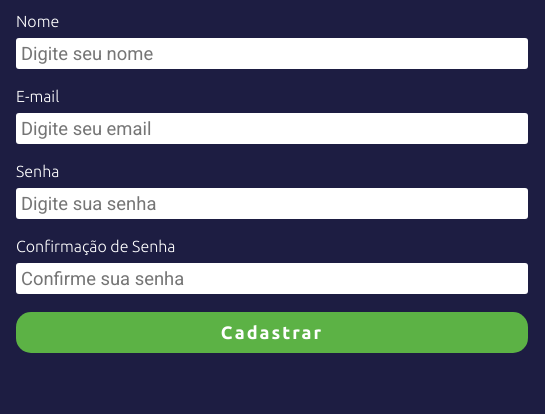
Testing Register Form › Should name be invalid
Type "####" into the field with placeholder "Digite seu nome". click: (272, 54)
box: [16,38,528,69]
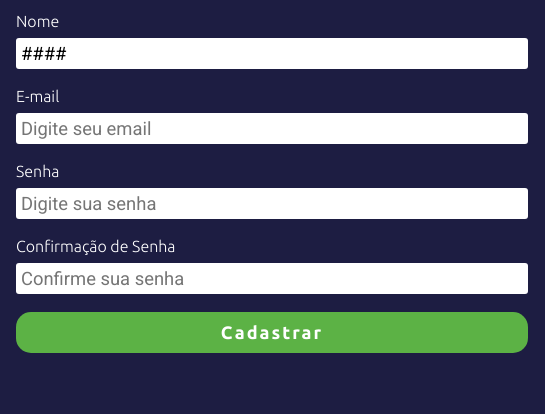
Type "outra coisa" into the field with placeholder "Digite seu email". click: (272, 128)
box: [16,113,528,144]
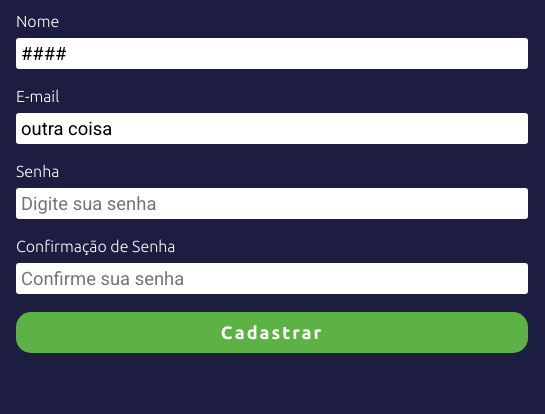
Type "123456" into the password field with placeholder "Digite sua senha". click: (272, 204)
box: [16,188,528,219]
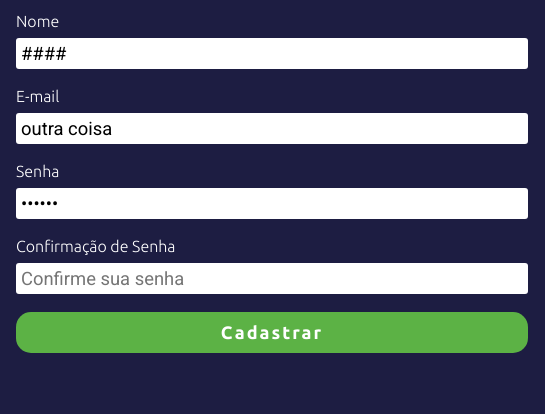
Type "123456" into the password field with placeholder "Confirme sua senha". click: (272, 278)
box: [16,263,528,294]
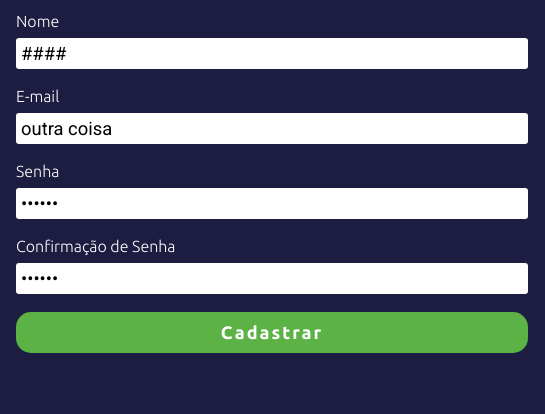
Click the button. click: click(272, 332)
box: [16,312,528,353]
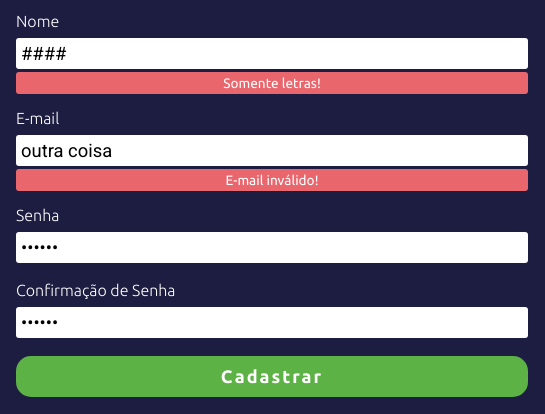
Now the text "Somente letras!" is shown, box [16,72,528,94]
